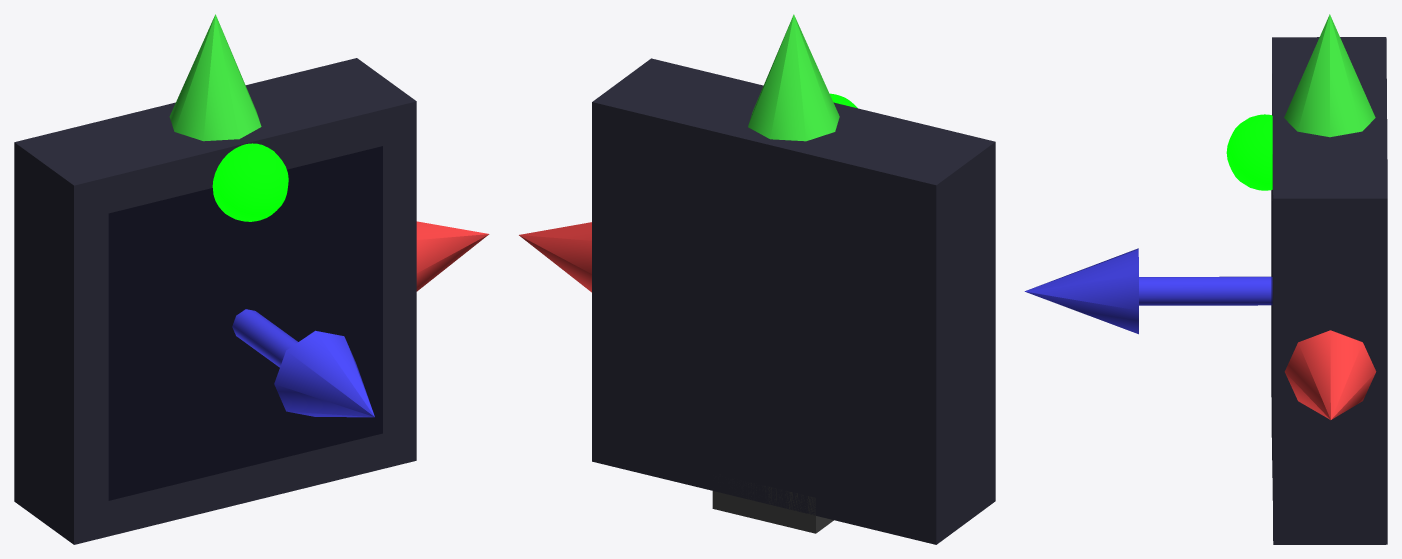
File: flysightspatial.gltf
3 views of the same model, side by side, from view 1: azimuth 30°, elevation 25°; view 2: azimuth 150°, elevation 25°; view 3: azimuth 270°, elevation 25° (orthographic). The views are drawn at different scales.
Visible parts, largest first — view 1: Body, Screen, Axis_Z, Axis_Y, LED, Axis_X; view 2: Body, Axis_Y, USB_Port, Axis_X; view 3: Body, Axis_Z, Axis_Y, Axis_X, LED, Screen.
Part boxes in pixels (box(x1,y1,x2,y2)): Body: box(14, 58, 416, 544); Screen: box(108, 146, 382, 500); Axis_Z: box(232, 309, 374, 417); Axis_Y: box(169, 14, 261, 141); LED: box(212, 143, 288, 221); Axis_X: box(416, 221, 489, 291); Body: box(592, 58, 995, 544); Axis_Y: box(748, 14, 839, 141); USB_Port: box(712, 474, 833, 533); Axis_X: box(519, 222, 591, 292); Body: box(1272, 37, 1387, 544); Axis_Z: box(1024, 248, 1272, 334); Axis_Y: box(1284, 14, 1375, 137); Axis_X: box(1284, 330, 1376, 419); LED: box(1226, 114, 1272, 190); Screen: box(1271, 190, 1272, 477).
Size of the model in its own units: 0.6503 by 0.675 by 0.4759.
